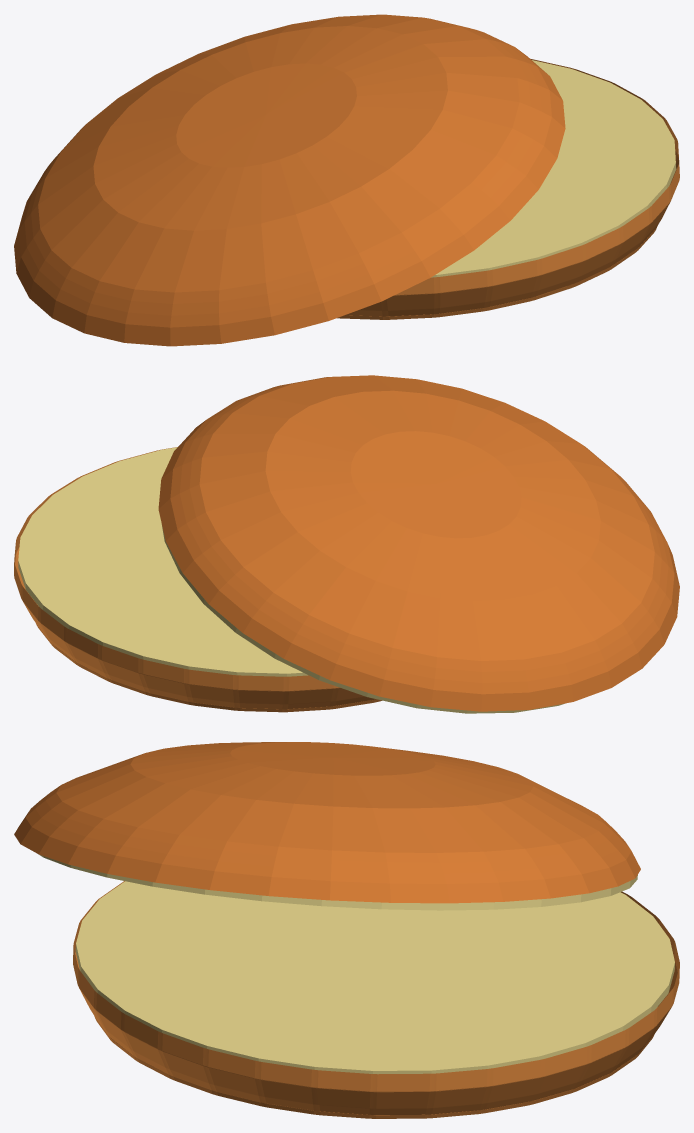
The model's file is buns.fbx.
The picture shows the model from 3 angles, top to bottom: view 1: azimuth 30°, elevation 25°; view 2: azimuth 150°, elevation 25°; view 3: azimuth 270°, elevation 25°; orthographic projection. The views are drawn at different scales.
Visible parts, largest first — view 1: top_bun, Cylinder, bottom_bun; view 2: top_bun, Cylinder, bottom_bun; view 3: Cylinder, top_bun, bottom_bun.
Part boxes in pixels (x1,y1,x2,y2): top_bun: (14, 14, 565, 346); Cylinder: (431, 60, 676, 277); bottom_bun: (337, 59, 679, 319); top_bun: (158, 375, 679, 711); Cylinder: (18, 447, 565, 713); bottom_bun: (14, 447, 381, 712); Cylinder: (38, 854, 674, 1074); top_bun: (14, 742, 640, 903); bottom_bun: (73, 881, 679, 1118).
Size of the model in its own units: 147 by 44.39 by 126.
